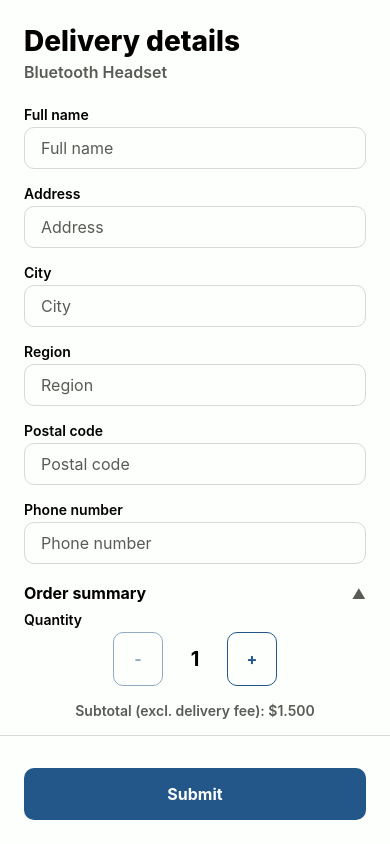
Test case: DeliveryScreen › updates the subtotal when the quantity is decremented
Click the element with test id "quantity-increment" at (252,659), box [227,632,277,686]
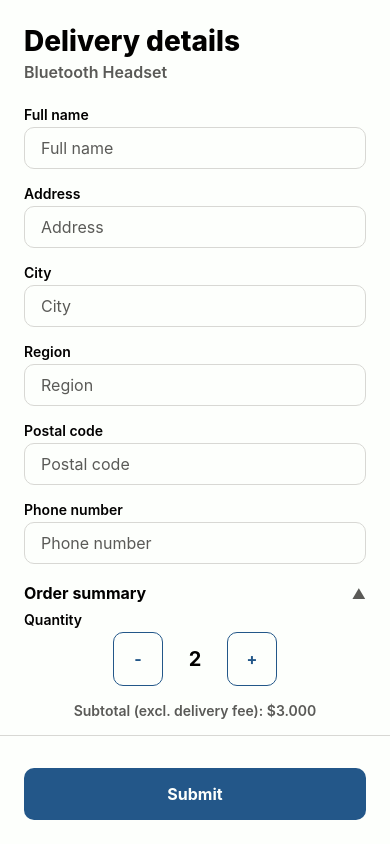
Click the element with test id "quantity-increment" at (252,659), box [227,632,277,686]
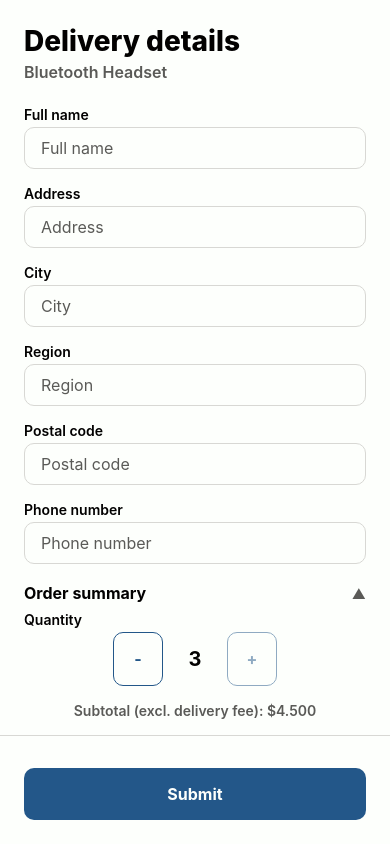
Click the element with test id "quantity-decrement" at (138,659), box [113,632,163,686]
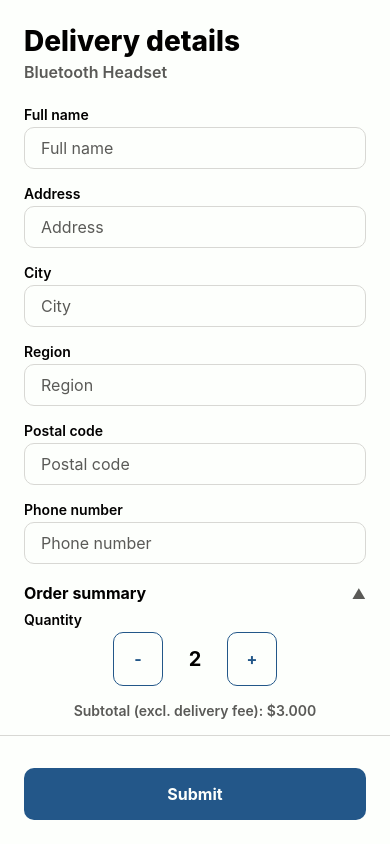
Check: the text "Subtotal (excl. delivery fee): $3.000" is shown, box [74,702,316,719]
